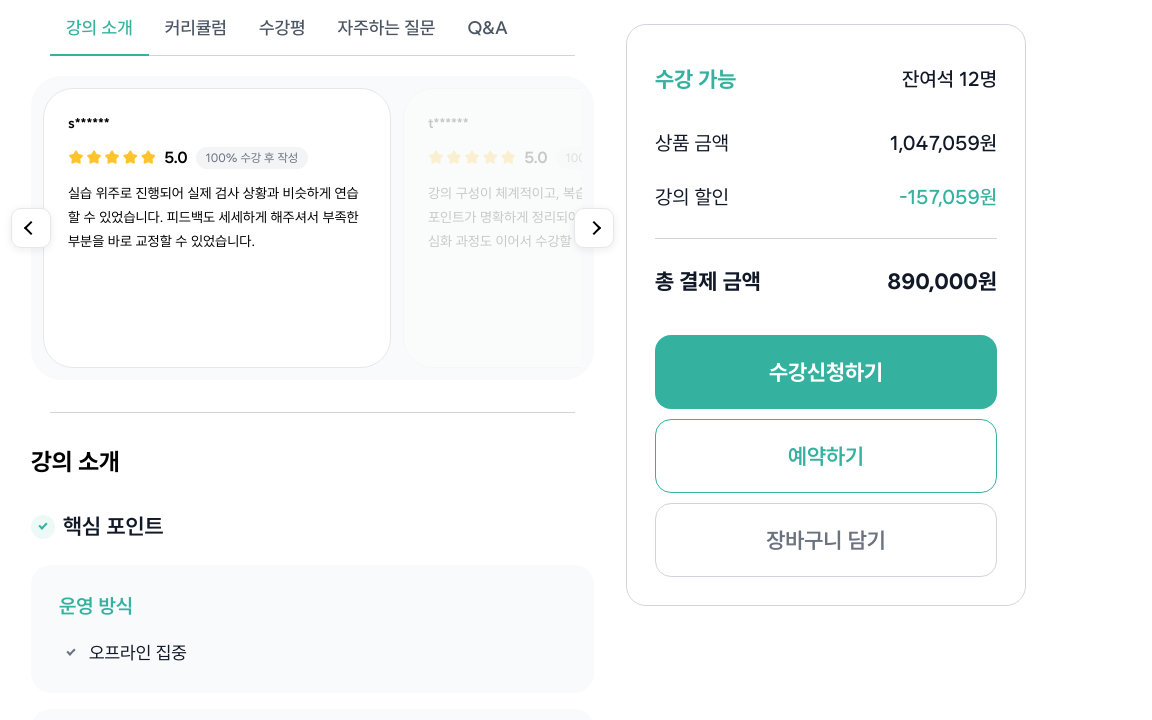
Test: ProgramPage › uses the authenticated member name as the reservation inquiry default name
(page scrolled)
What coordinates should you click on to do the following:
click the button "예약하기"
I would click on:
 (826, 456)
Its box is left=655, top=419, right=997, bottom=493.
(page scrolled)
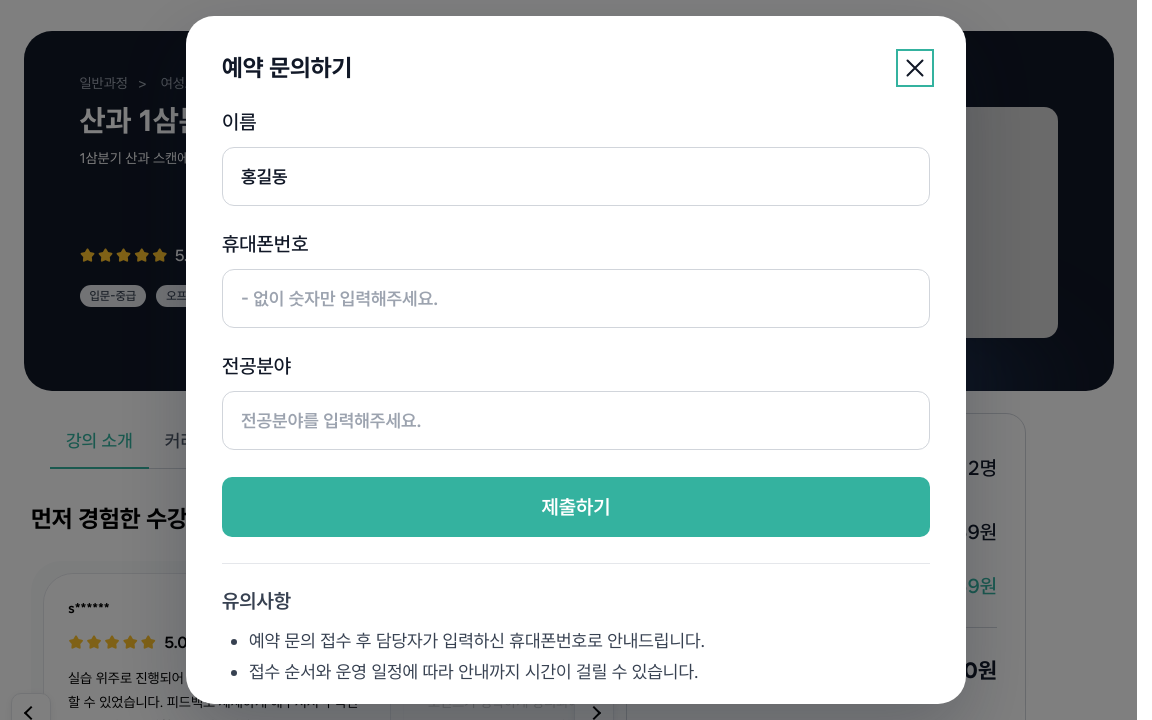
expect the field labelled "이름" holds "홍길동": met, box left=222, top=147, right=930, bottom=206
